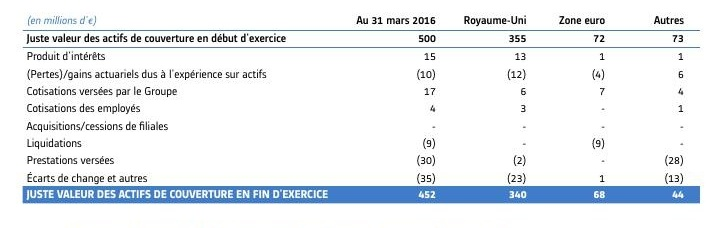table: (0, 0, 722, 228)
